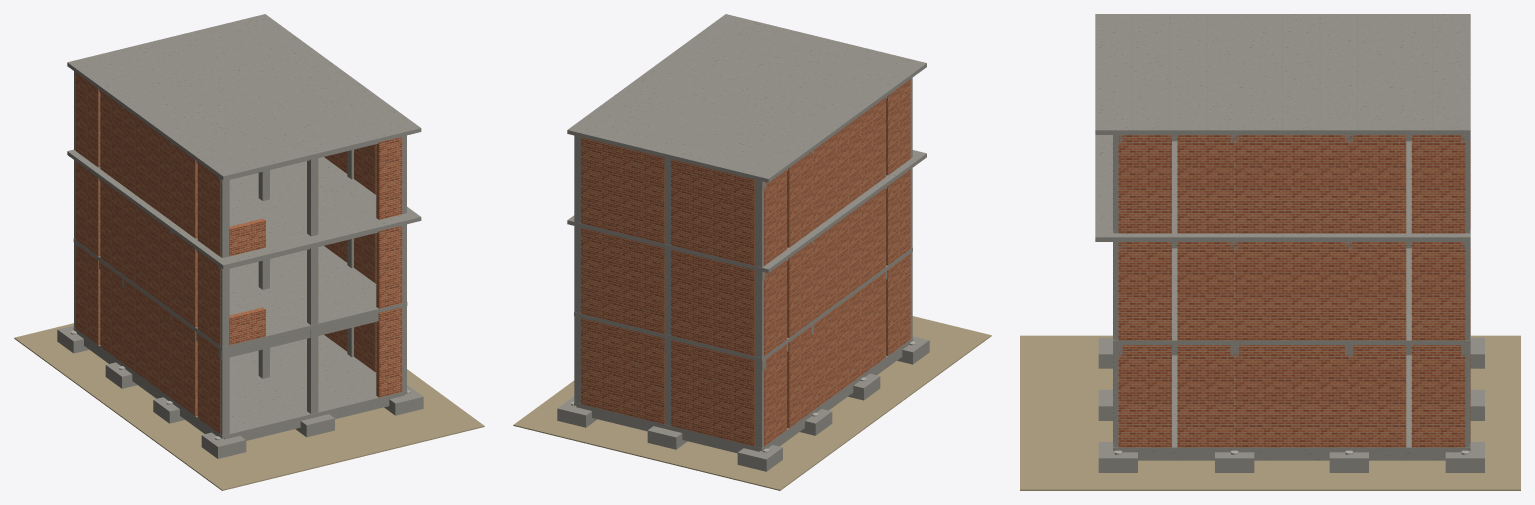
Rendered from phase-3.glb.
The picture shows the model from 3 angles, left to right: view 1: azimuth 30°, elevation 25°; view 2: azimuth 150°, elevation 25°; view 3: azimuth 270°, elevation 25°; orthographic projection. The views are drawn at different scales.
Bounding box in the file's own units: 10.2 × 10.54 × 14.
4 materials, 2 textured.
